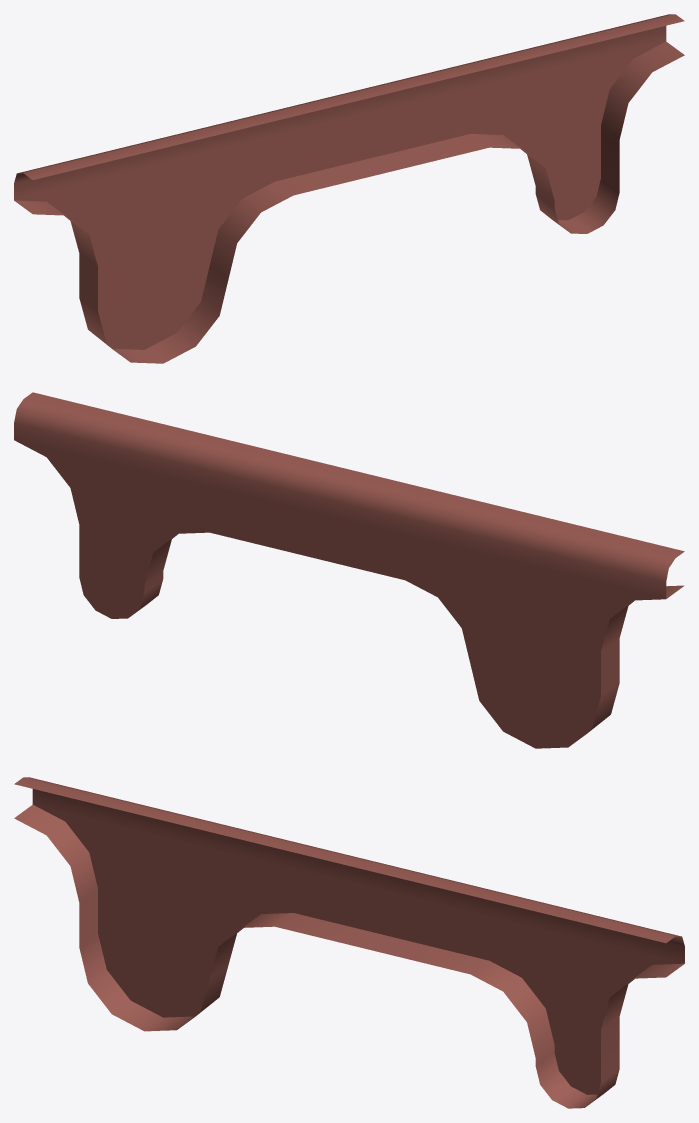
The model's file is SM_drop_2.fbx.
3 renders of one model, top to bottom at view 1: azimuth 30°, elevation 25°; view 2: azimuth 150°, elevation 25°; view 3: azimuth 330°, elevation 25°, orthographic.
Parts seen in each view (by area): view 1: SM_drop_2; view 2: SM_drop_2; view 3: SM_drop_2.
Boxes of the visible parts, <box> form: SM_drop_2: <box>14,14,684,363</box>; SM_drop_2: <box>14,392,684,748</box>; SM_drop_2: <box>14,777,684,1108</box>.
Bounding box in the file's own units: 500 × 158 × 25.
